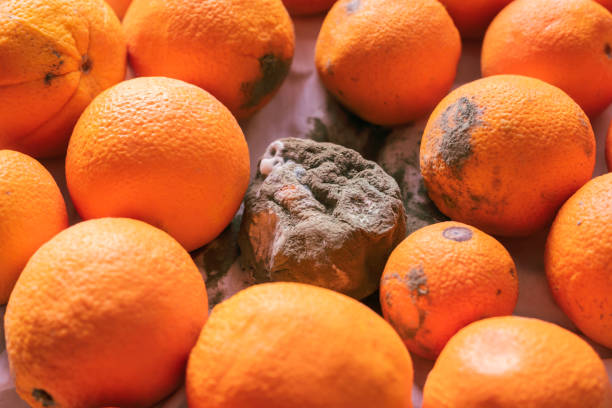Defected Orange: (415, 71, 589, 229), (251, 120, 405, 290), (388, 214, 518, 350)
Good Orange: (4, 222, 206, 408), (74, 81, 248, 231), (96, 84, 98, 84)
